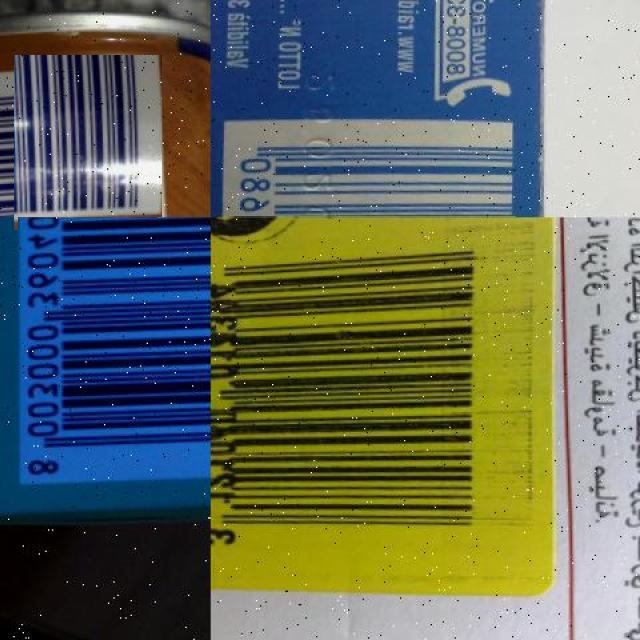Barcode: (210, 231, 522, 584), (18, 217, 210, 488), (223, 114, 516, 218), (7, 61, 168, 224)
